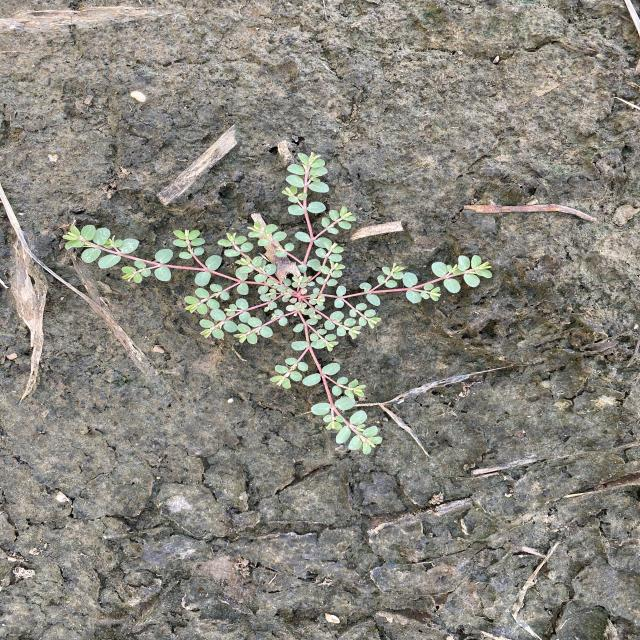SpottedSpurge: (60, 151, 496, 455)
